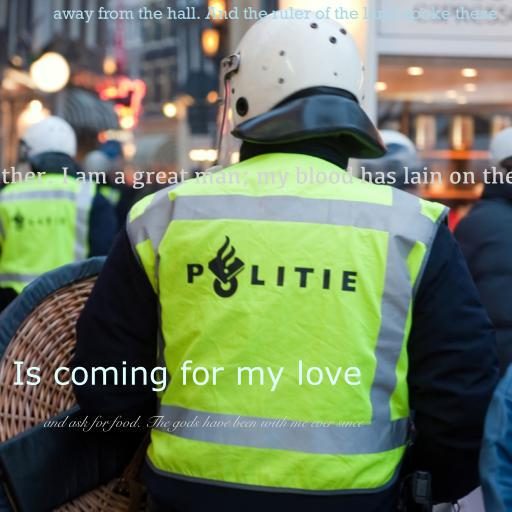Kefa: (0, 166, 512, 189)
Rockwell: (52, 6, 498, 23)
Snell Roundhand: (43, 415, 363, 432)
Verdana: (12, 360, 362, 392)
